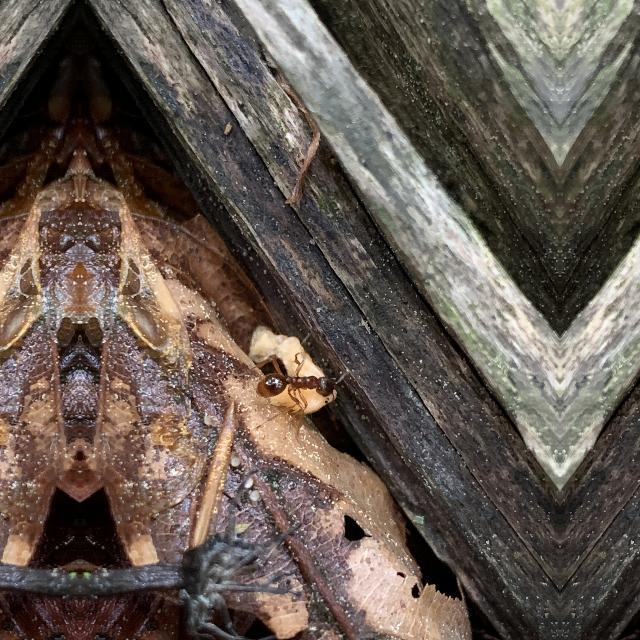Myrmica: (252, 339, 350, 416)
